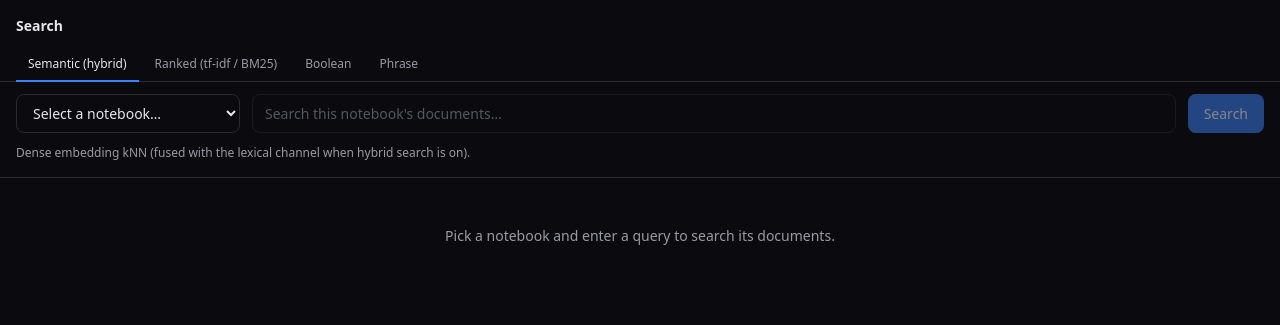
Scenario: SearchPage › opens the citation panel with the right excerpt when a hit is clicked
The image size is (1280, 325).
Select "Chemistry" in the dropdown named "Notebook" at (128, 114), box [16,94,240,133]
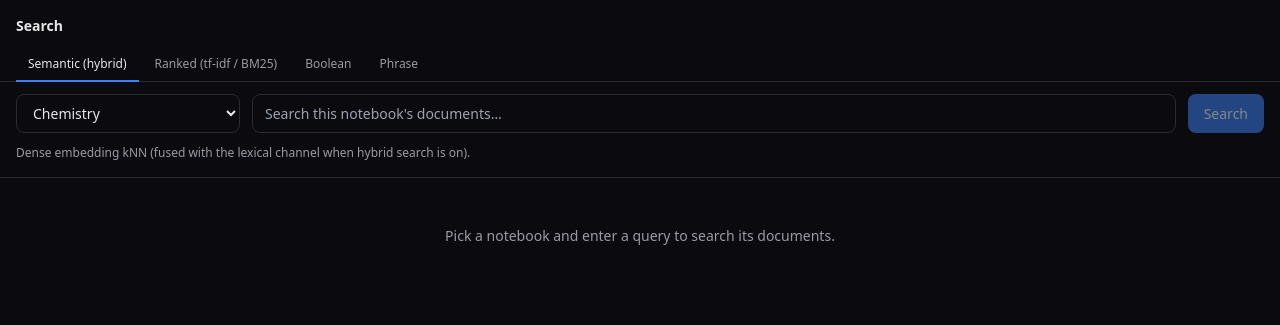
Type "octet rule" into the field with placeholder "Search this notebook's documents…" at (714, 114), box [252,94,1176,133]
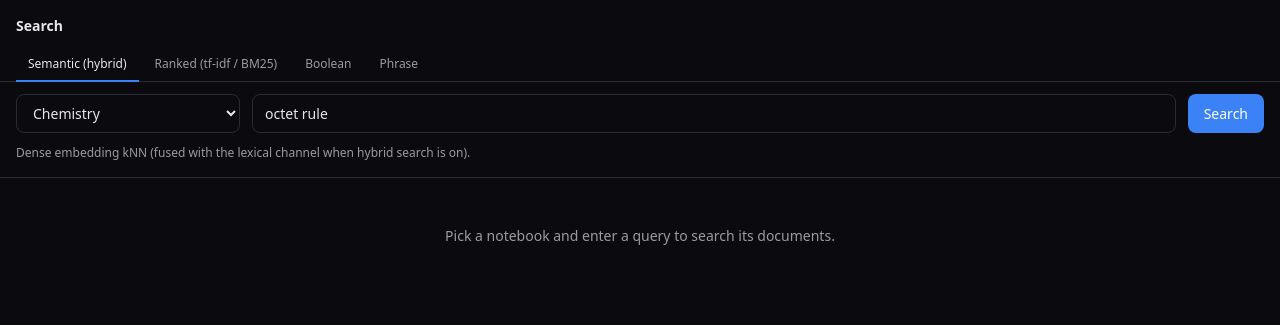
Click the button "Search" at (1226, 114), box [1188,94,1264,133]
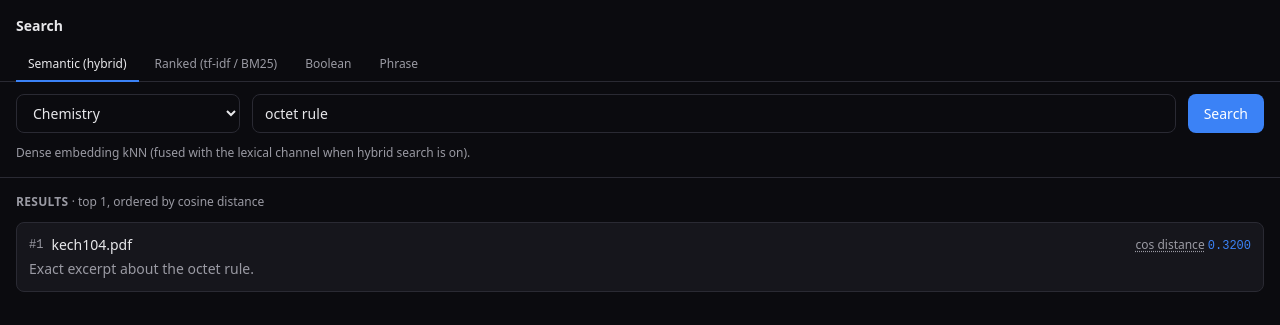
Check: the text "kech104.pdf" is shown, box [51,235,132,254]
Click the text "Exact excerpt about the octet rule." at (142, 268), box [29,259,254,278]
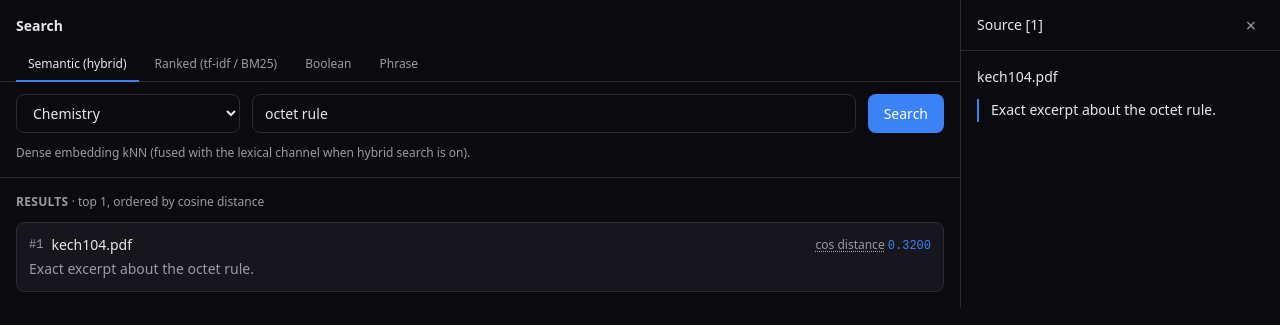
Check: the text "Exact excerpt about the octet rule." below "Results" is shown, box [29,259,254,278]
Check: the text "Source [1]" is shown, box [977,15,1043,35]
